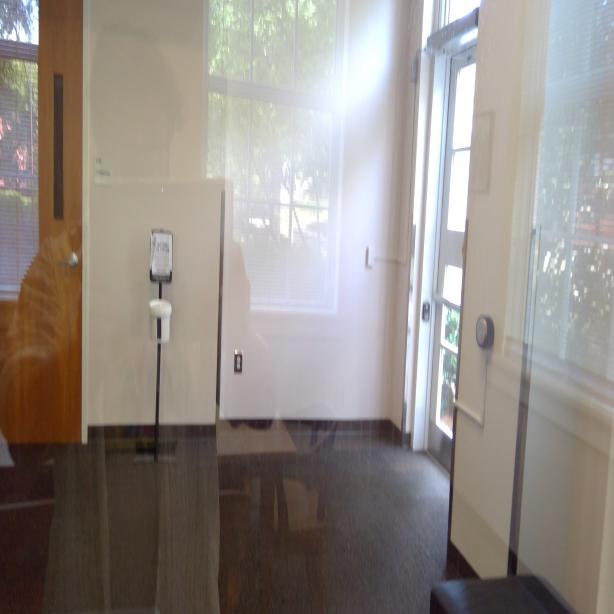typeb: (237, 354, 241, 364), (236, 363, 241, 371)
